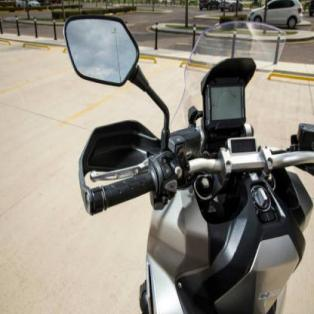Motocicleta: (55, 0, 313, 313)
